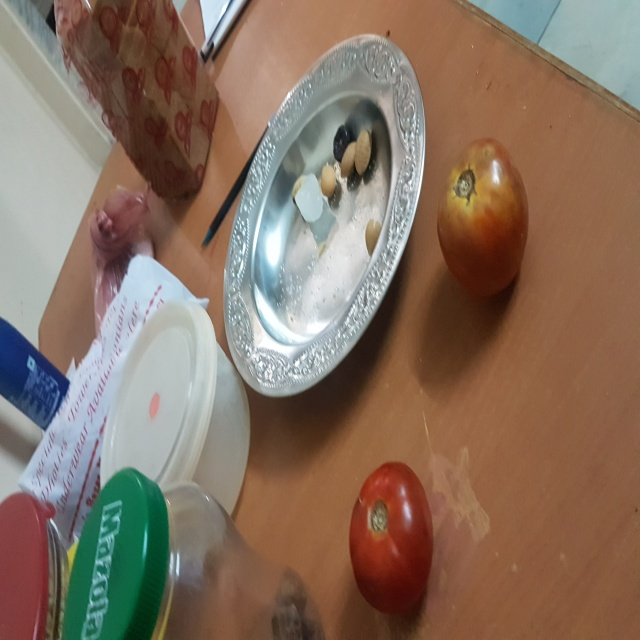tomato: (438, 135, 548, 310), (347, 460, 437, 617)
